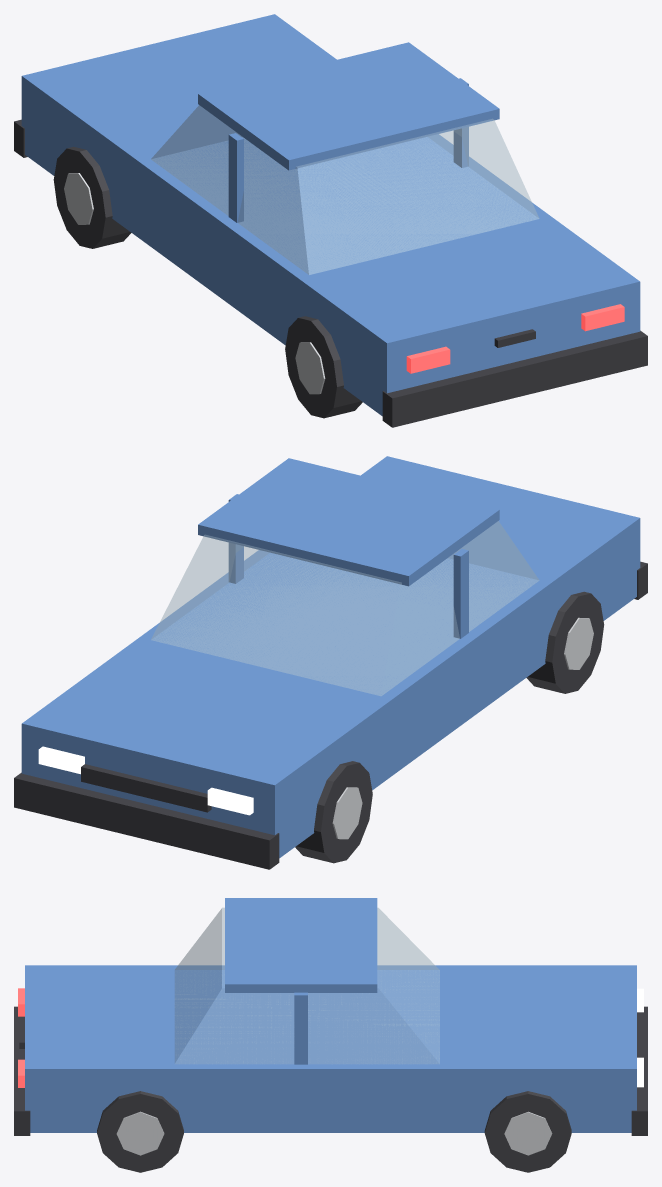
The model's file is car_sedan_blue.glb.
The picture shows the model from 3 angles, top to bottom: view 1: azimuth 30°, elevation 25°; view 2: azimuth 150°, elevation 25°; view 3: azimuth 270°, elevation 25°; orthographic projection. The views are drawn at different scales.
Parts seen in each view (by area): view 1: body, wheel_fl, wheel_rl; view 2: body, wheel_rl, wheel_fl; view 3: body, wheel_fr, wheel_rr.
Part boxes in pixels (x1,y1,x2,y2): body: (14,14,647,427); wheel_fl: (53,146,131,248); wheel_rl: (285,316,362,418); body: (14,456,647,869); wheel_rl: (526,591,604,693); wheel_fl: (295,761,372,863); body: (14,898,647,1135); wheel_fr: (484,1091,571,1172); wheel_rr: (97,1091,183,1172).
Size of the model in its own units: 1.92 by 1.5 by 4.66.
